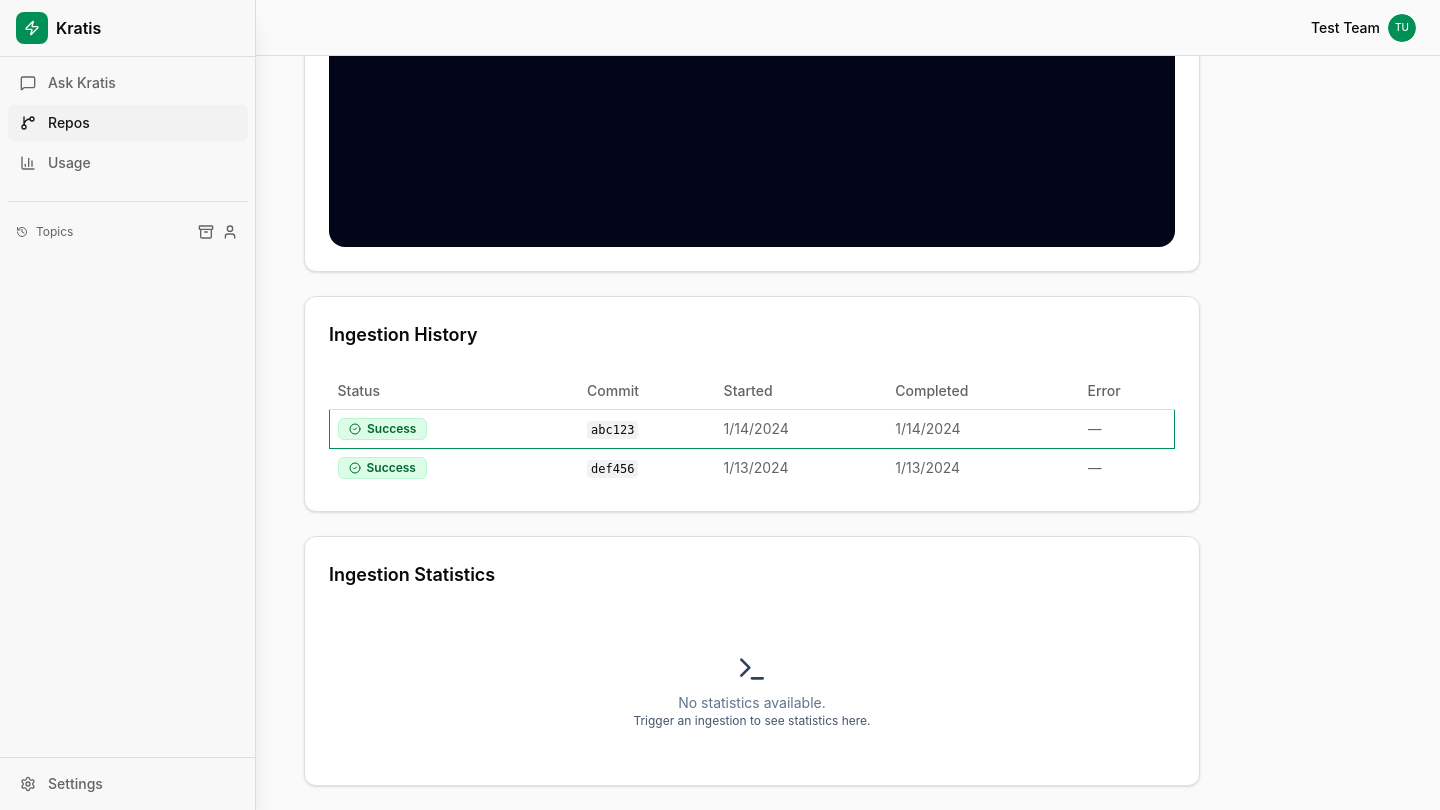
Test: Repository Drilldown - Batch Selection › shows "View Latest" button when a historical batch is selected
(page scrolled)
Click the text "def456" at (752, 468), box [330, 448, 1174, 487]
(page scrolled)
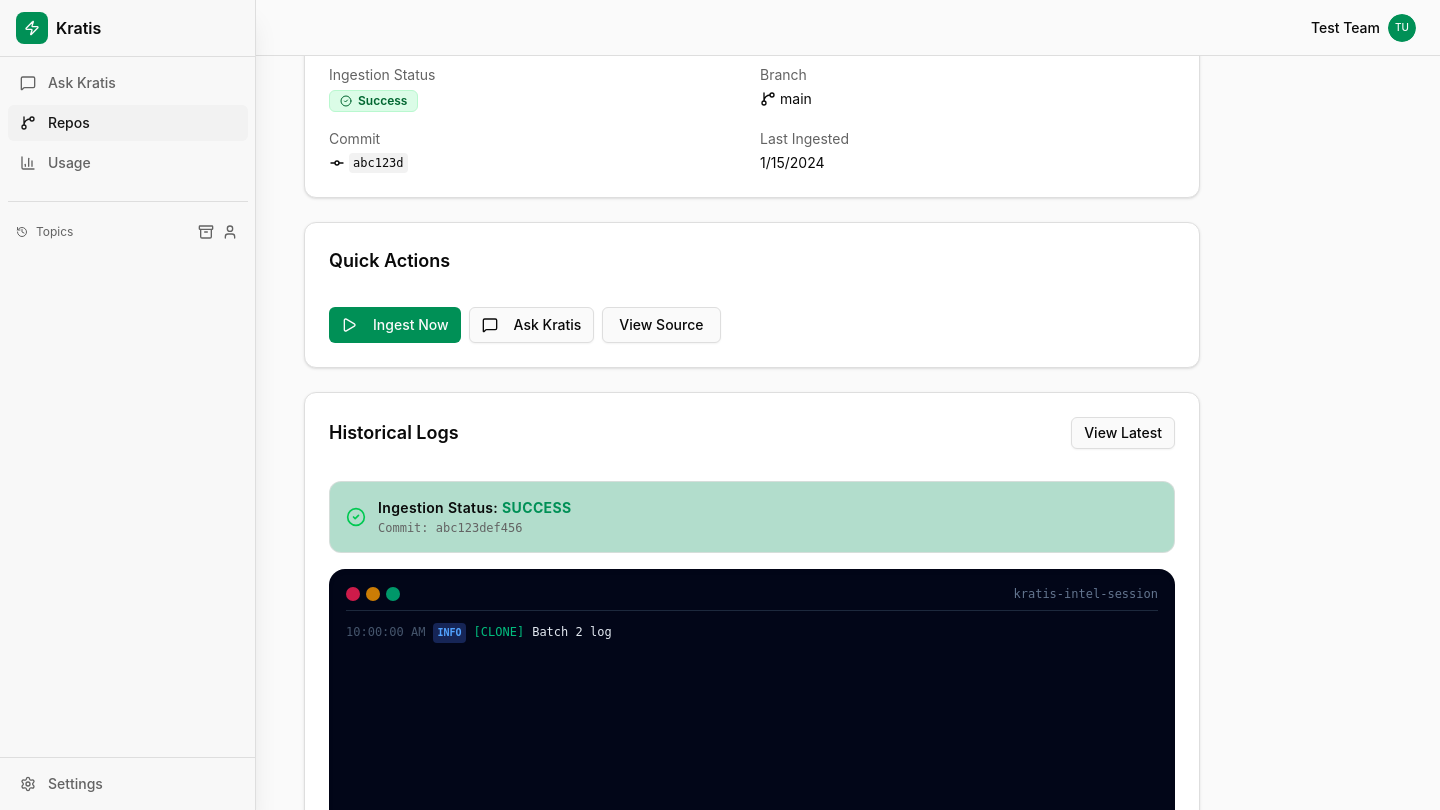
Now the text "Batch 2 log" is shown, box [532, 623, 612, 642]
Now the text "Historical Logs" is shown, box [329, 419, 459, 447]
Now the button "View Latest" is shown
# Click "View Latest"
Click the button "View Latest" at (1123, 433), box [1071, 417, 1175, 449]
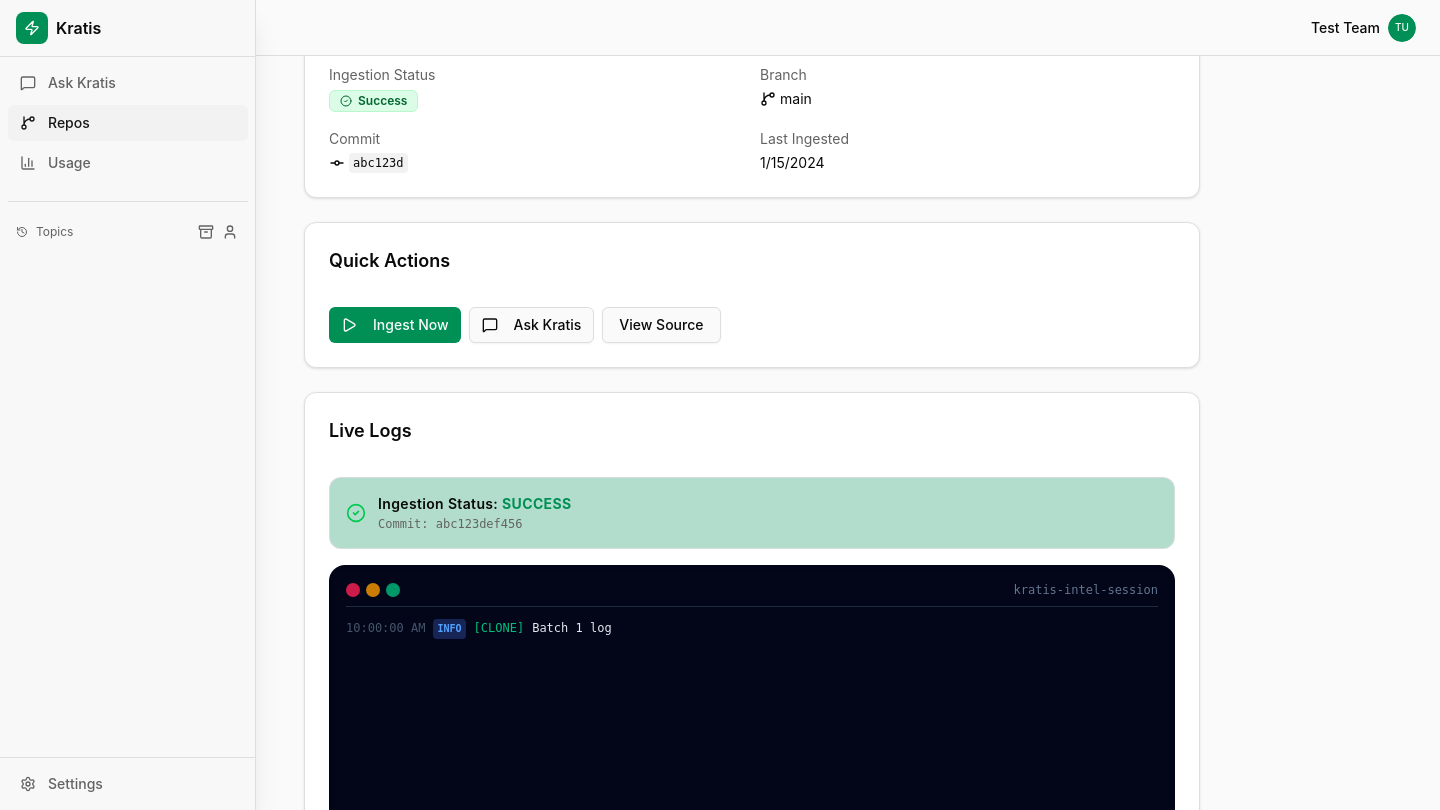
Now the text "Live Logs" is shown, box [329, 417, 412, 445]
Now the text "Batch 1 log" is shown, box [532, 619, 612, 638]
Now the button "View Latest" is gone
